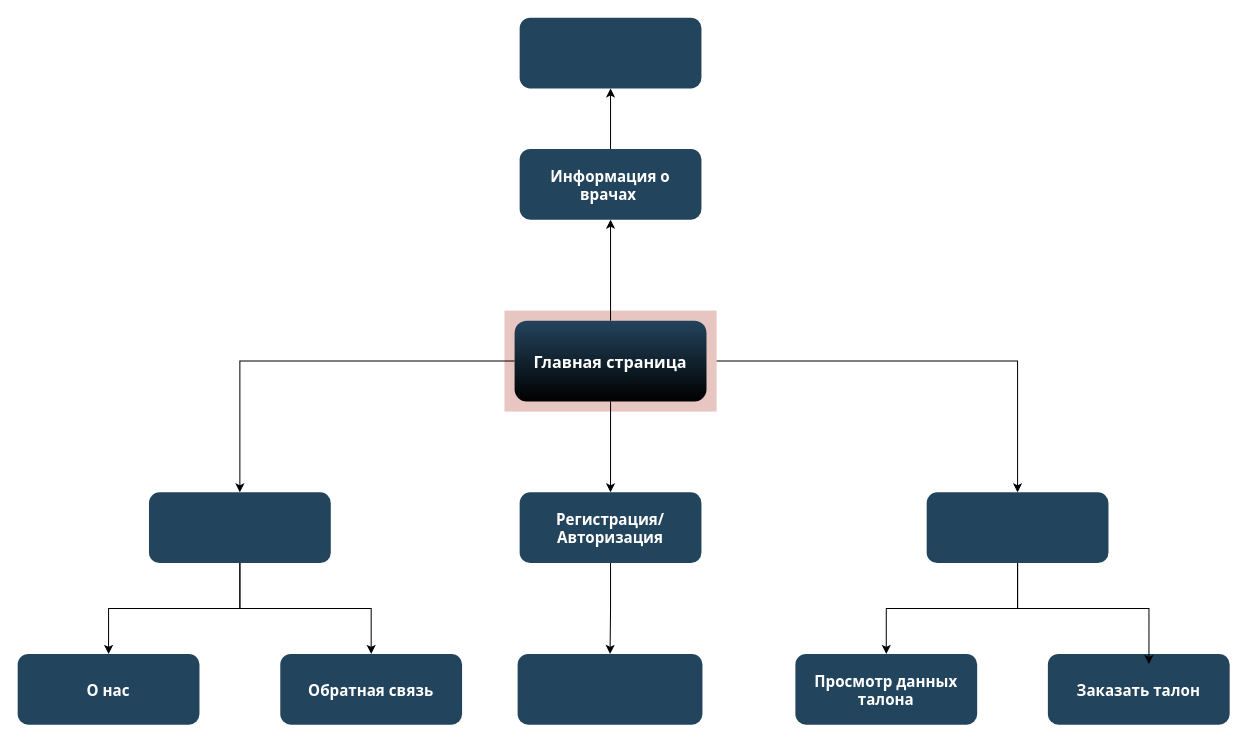
Image size: 1246x741. Some labels were removed from this diagram. The shapes that lost their labels are listed below. From the top down, each one's centre as x and y in pixels, then its label:
point (610, 52): Расписание врачей и их список
point (239, 527): Контакты
point (1017, 527): Оказываемые услуги
point (609, 688): Кабинет пользователя
